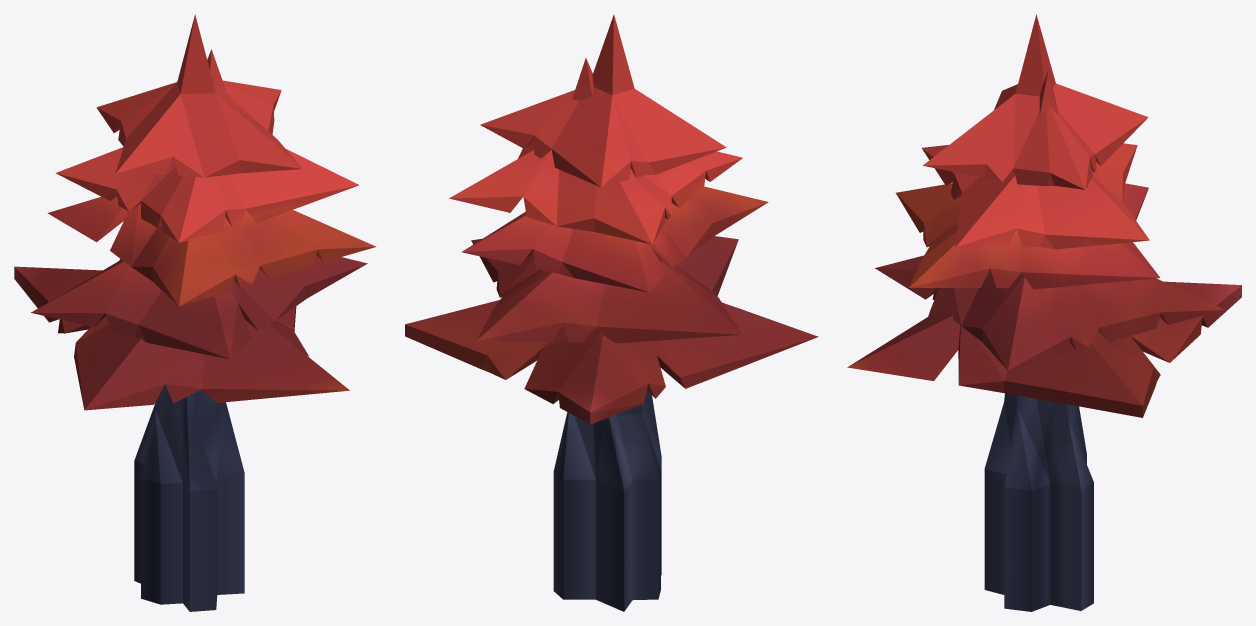
The model's file is tree_type_2_1.glb.
The picture shows the model from 3 angles, left to right: view 1: azimuth 30°, elevation 25°; view 2: azimuth 150°, elevation 25°; view 3: azimuth 270°, elevation 25°; orthographic projection.
Parts seen in each view (by area): view 1: treetype2_1.002; view 2: treetype2_1.002; view 3: treetype2_1.002.
Part boxes in pixels (x1,y1,x2,y2): treetype2_1.002: (14,14,376,611); treetype2_1.002: (405,15,818,611); treetype2_1.002: (847,14,1241,611).
Bounding box in the file's own units: 2.63 × 4.57 × 2.83.
Materials: 1 (1 with a texture image).
